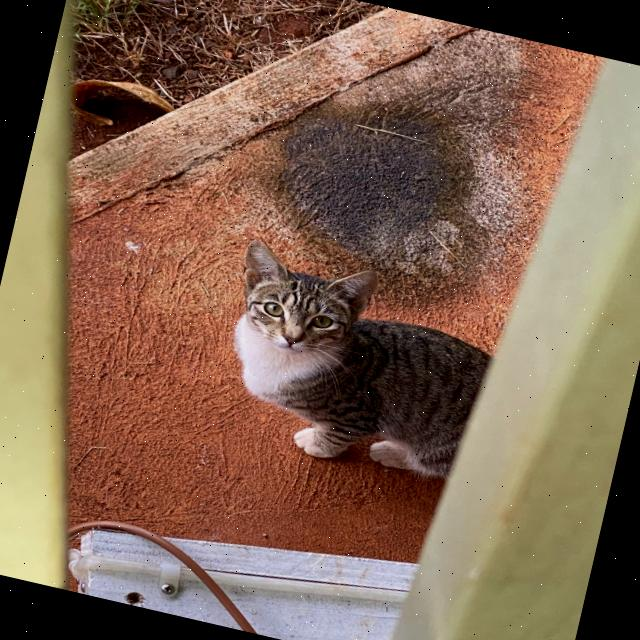domestic_short_hair_cat: (214, 226, 394, 386)
